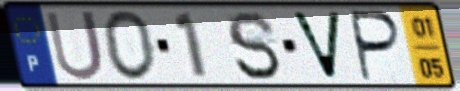1: (171, 11, 214, 81)
O: (100, 8, 159, 83)
P: (349, 8, 405, 84)
S: (224, 9, 285, 83)
U: (42, 8, 107, 84)
V: (288, 10, 345, 83)
